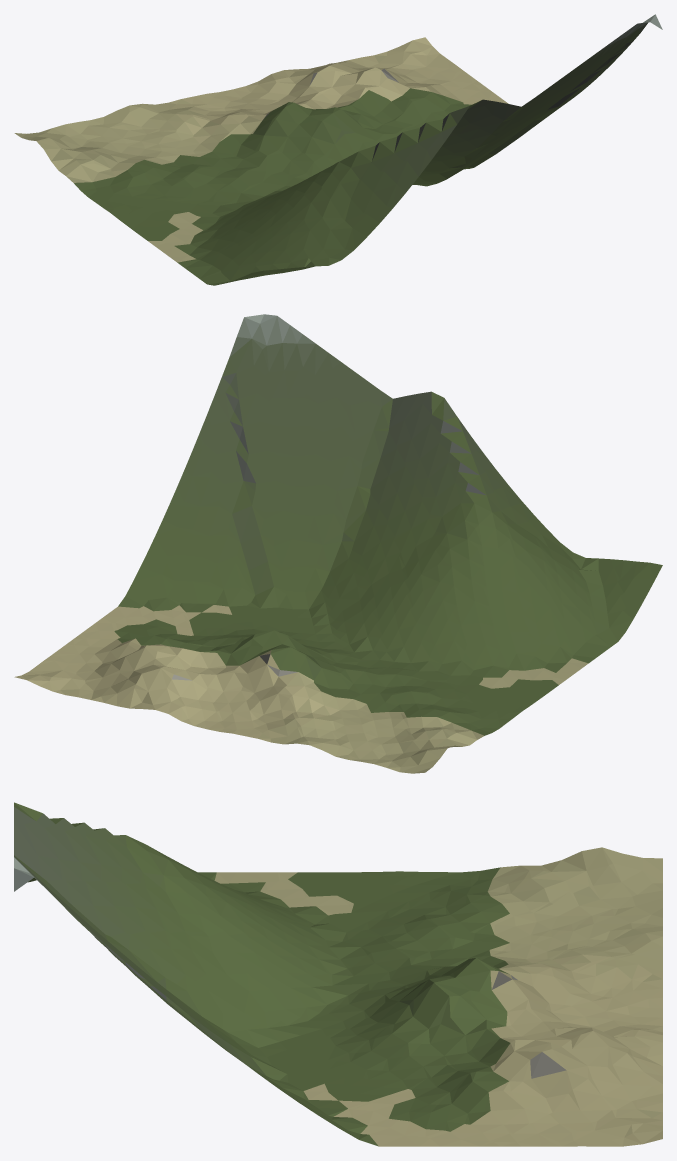
Rendered from Ground_-4_-6.glb.
3 views of the same model, one above another, from view 1: azimuth 30°, elevation 25°; view 2: azimuth 150°, elevation 25°; view 3: azimuth 270°, elevation 25° (orthographic). The views are drawn at different scales.
Visible parts, largest first — view 1: Ground_-4_-6; view 2: Ground_-4_-6; view 3: Ground_-4_-6.
Part boxes in pixels (x1,y1,x2,y2): Ground_-4_-6: (14, 14, 662, 285); Ground_-4_-6: (14, 314, 662, 773); Ground_-4_-6: (14, 802, 662, 1146).
Size of the model in its own units: 768 by 355 by 768.
